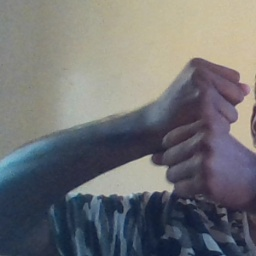G: (146, 54, 252, 201)
